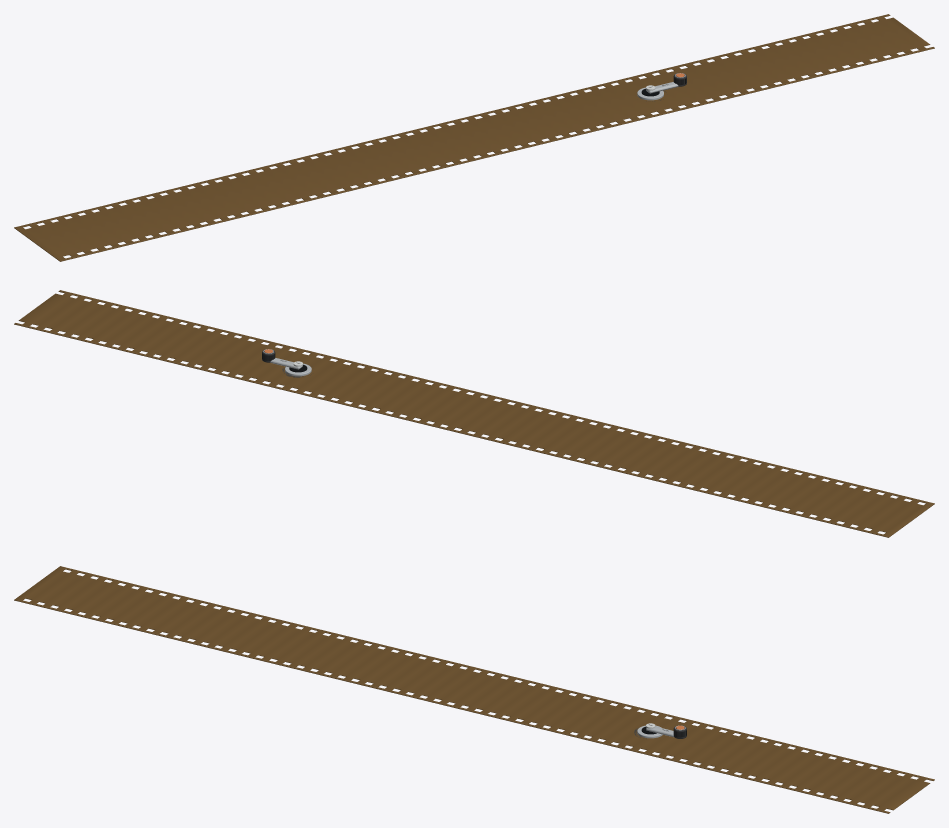
Rendered from film-rig.glb.
3 views of the same model, one above another, from view 1: azimuth 30°, elevation 25°; view 2: azimuth 150°, elevation 25°; view 3: azimuth 330°, elevation 25° (orthographic).
Parts seen in each view (by area): view 1: Perforated film ribbon; view 2: Perforated film ribbon; view 3: Perforated film ribbon.
Boxes of the visible parts, x1,y1,x2,y2 form: Perforated film ribbon: (14, 14, 934, 261); Perforated film ribbon: (14, 290, 934, 537); Perforated film ribbon: (14, 566, 934, 813).
Bounding box in the file's own units: 36 × 0.7085 × 3.3.
